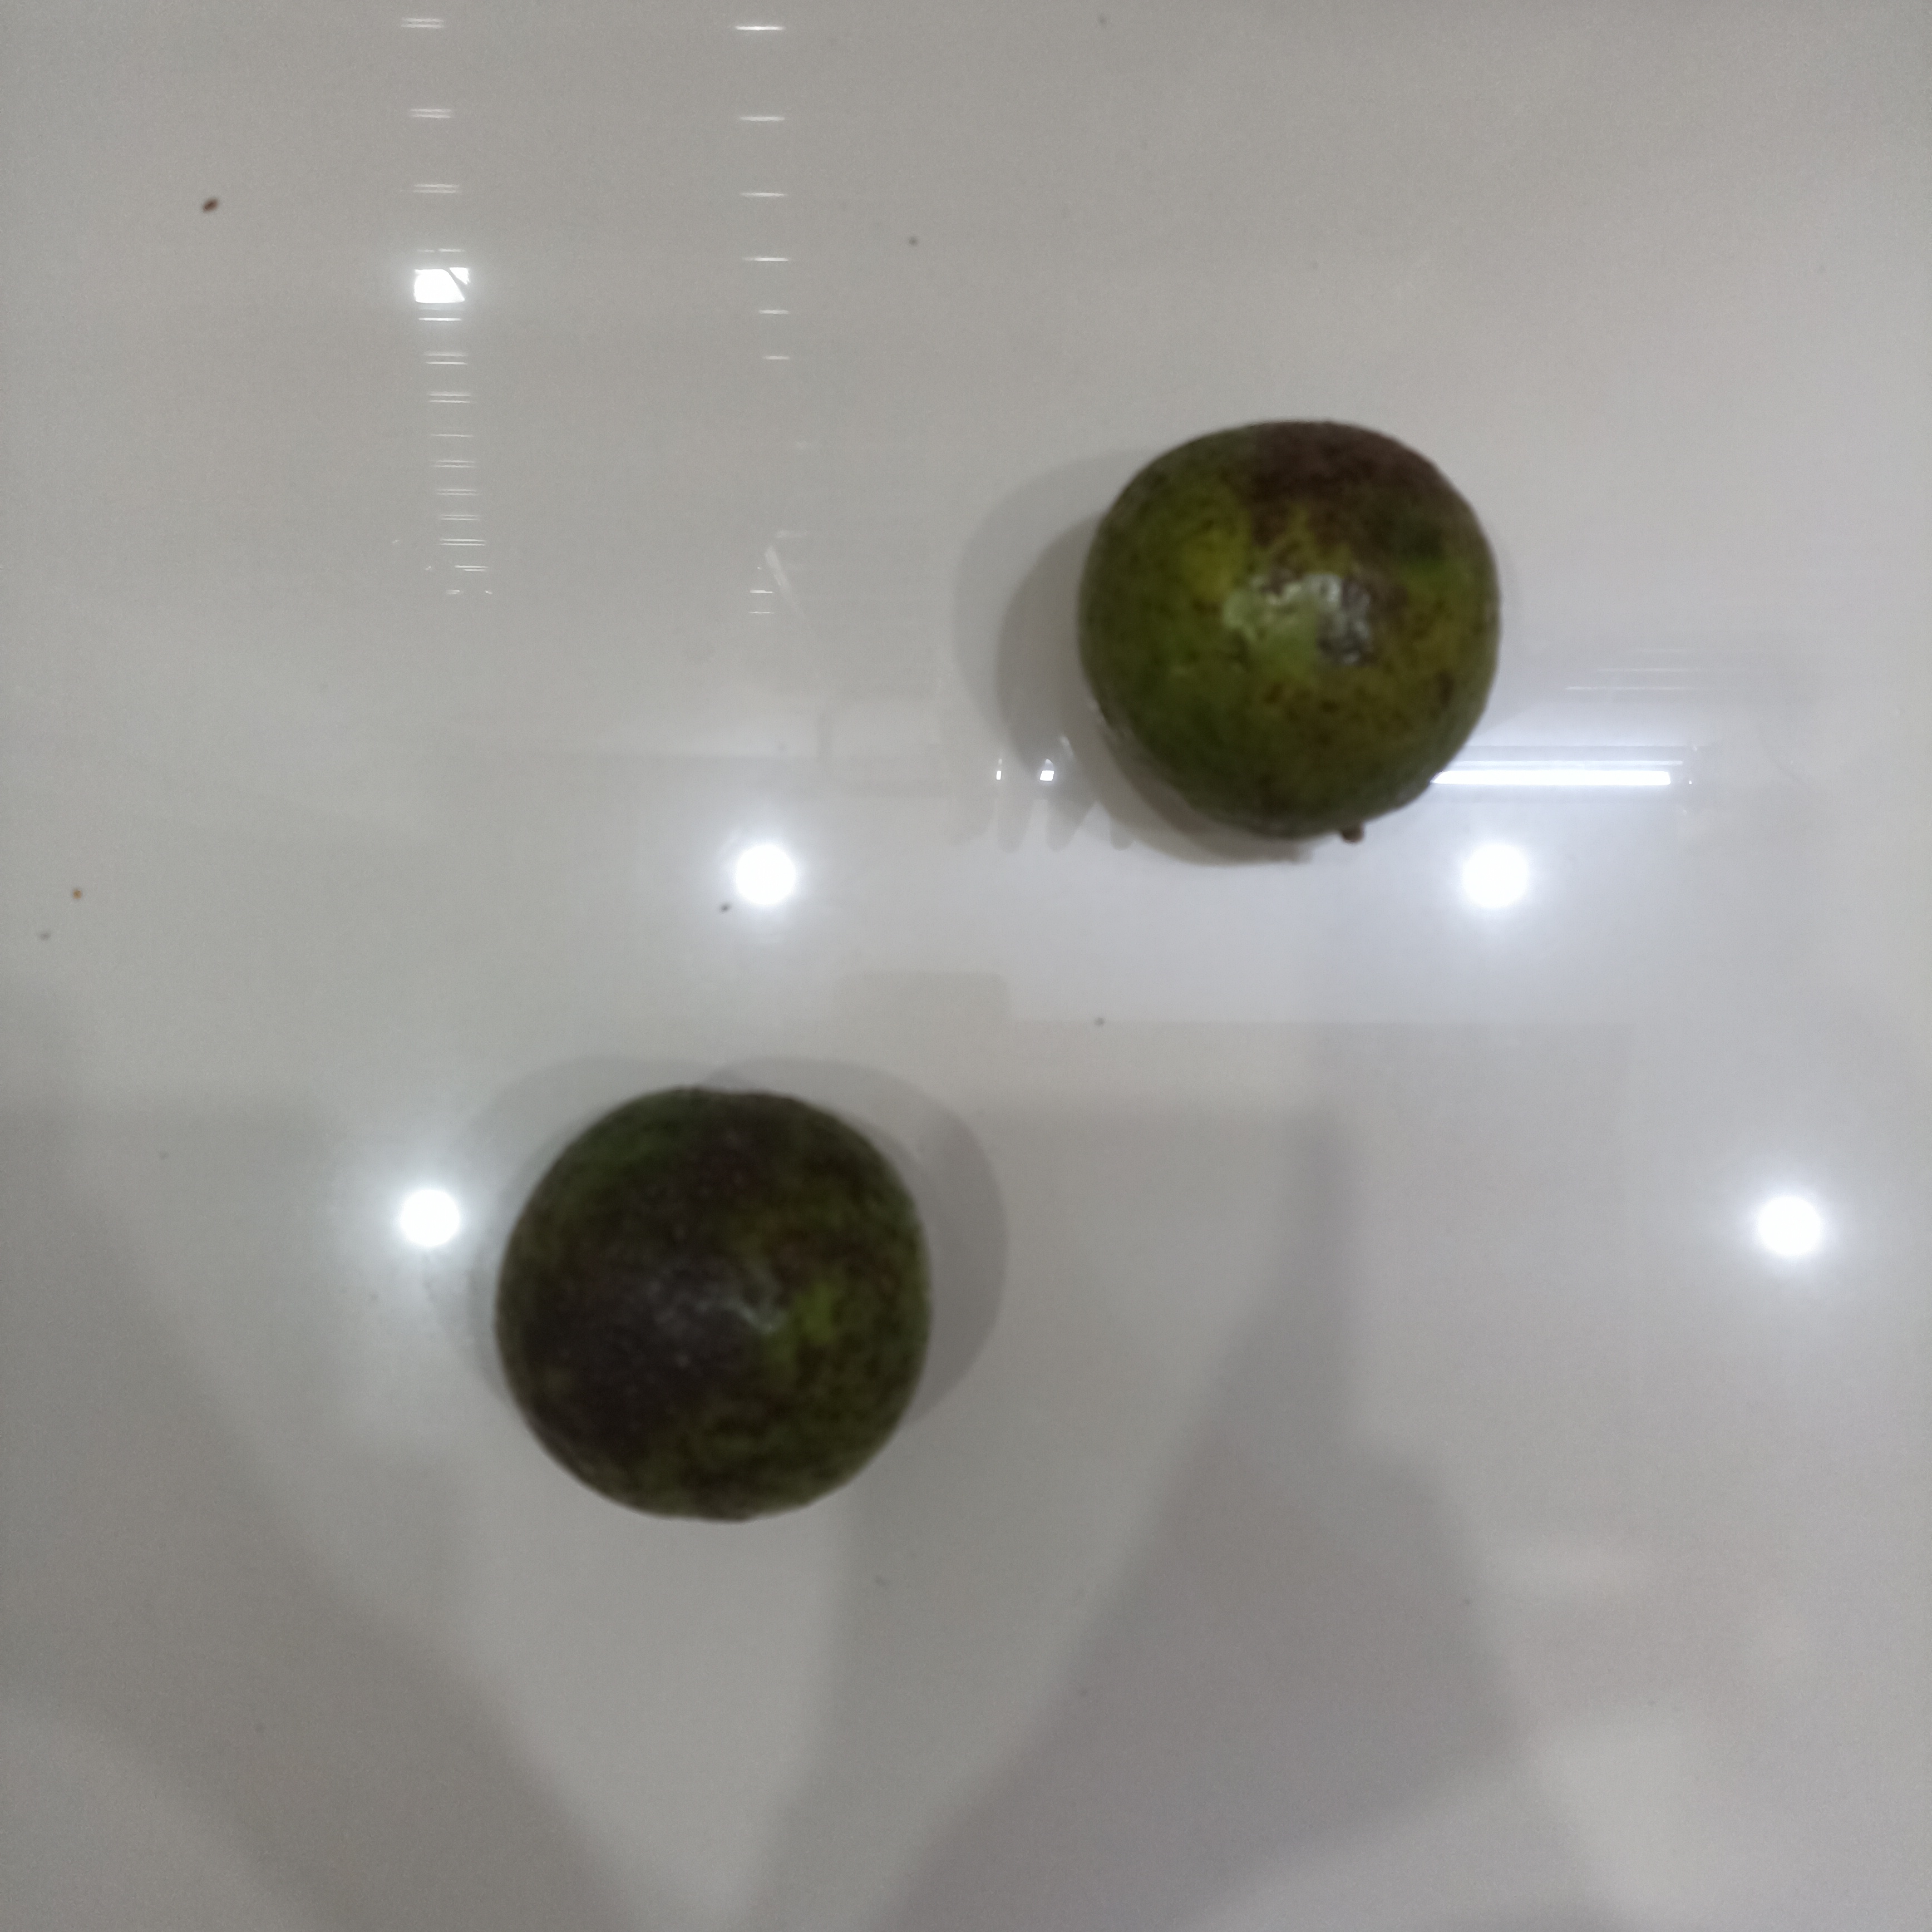Bo: (491, 1091, 935, 1534), (1071, 415, 1505, 832)
